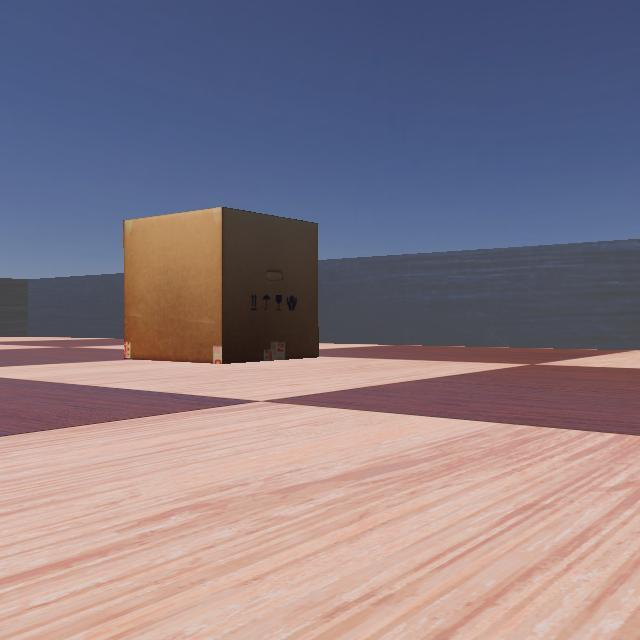cardboard-box: (96, 206, 318, 364)
